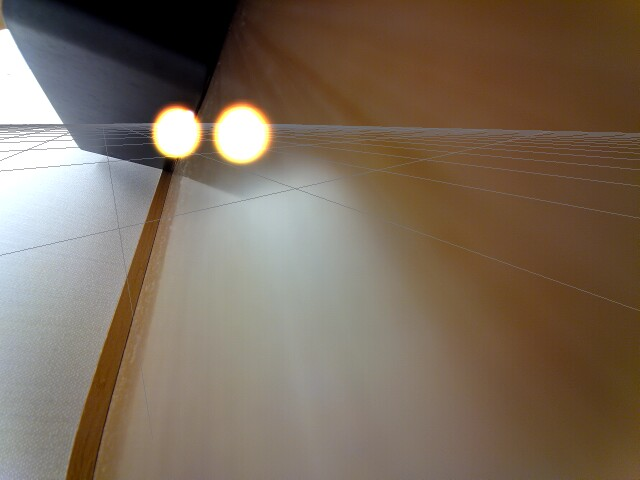firebig: (210, 96, 271, 168)
